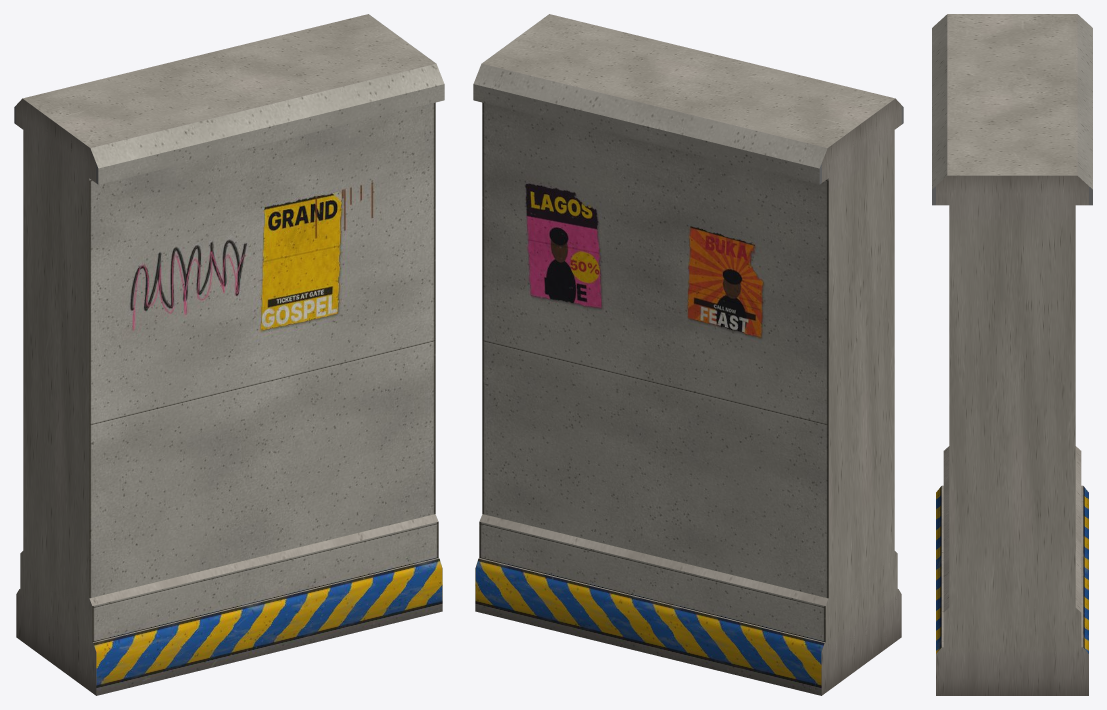
Rendered from env_wall_b.glb.
3 views of the same model, side by side, from view 1: azimuth 30°, elevation 25°; view 2: azimuth 150°, elevation 25°; view 3: azimuth 270°, elevation 25° (orthographic). The views are drawn at different scales.
Visible parts, largest first — view 1: env_wall_b_body; view 2: env_wall_b_body; view 3: env_wall_b_body.
Boxes of the visible parts, <box> form: env_wall_b_body: <box>14,14,444,695</box>; env_wall_b_body: <box>473,14,903,695</box>; env_wall_b_body: <box>932,14,1092,695</box>.
Size of the model in its own units: 1 by 1.5 by 0.42.
Materials: 1 (1 with a texture image).
